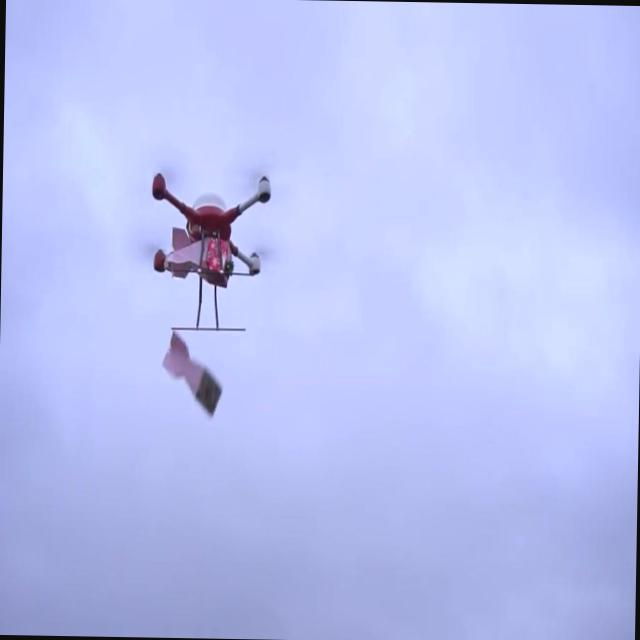drone: (144, 168, 272, 336)
